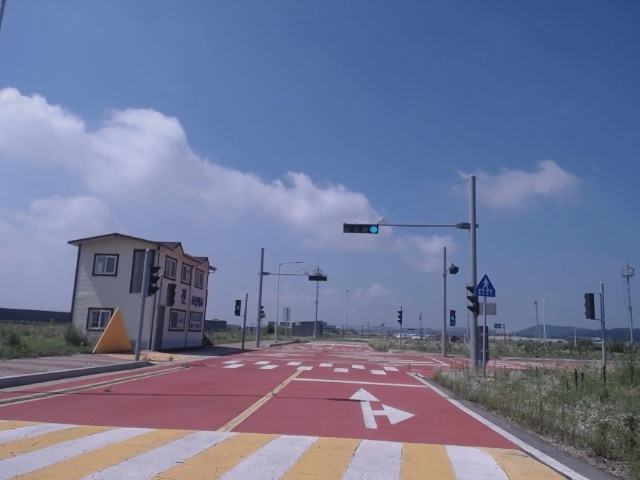straight_green_4: (343, 225, 379, 234)
